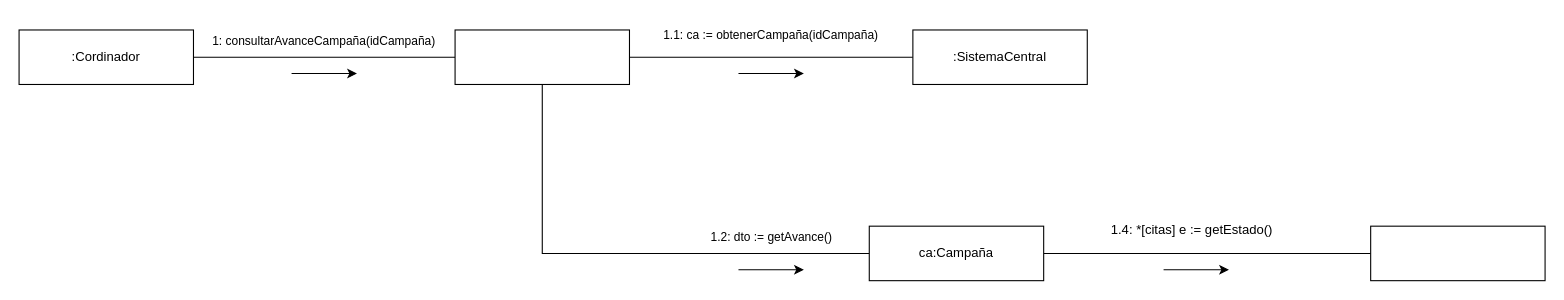
This 1564x300 diagram has some shape labels left out. The shapes that lost their labels are listed below. From the top down, each one's centre as x and y in pixels, then its label:
At point 541,56: ":ControladorReportes".
At point 1457,253: "c:Cita".
